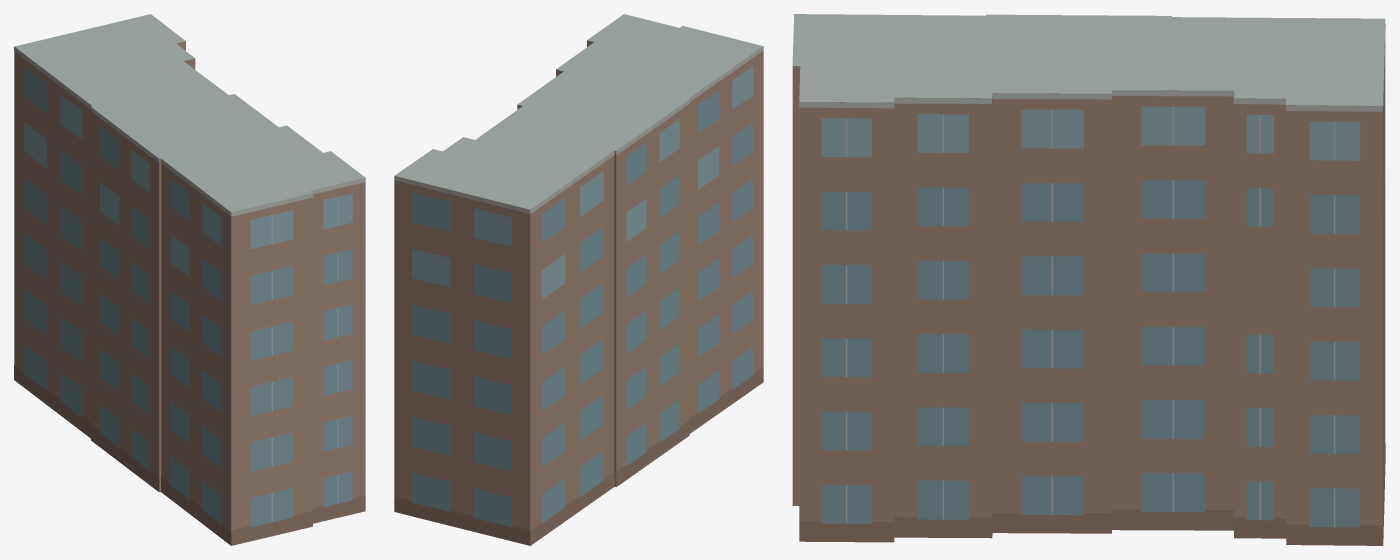
File: survey-upis-32968463.glb
3 views of the same model, side by side, from view 1: azimuth 30°, elevation 25°; view 2: azimuth 150°, elevation 25°; view 3: azimuth 270°, elevation 25° (orthographic). The views are drawn at different scales.
Visible parts, largest first — view 1: survey-upis-32968463.tmp; view 2: survey-upis-32968463.tmp; view 3: survey-upis-32968463.tmp.
Boxes of the visible parts, left/top/right/bottom form: survey-upis-32968463.tmp: left=14, top=14, right=365, bottom=545; survey-upis-32968463.tmp: left=394, top=14, right=763, bottom=545; survey-upis-32968463.tmp: left=792, top=14, right=1385, bottom=545.
Bounding box in the file's own units: 8.31 × 18.5 × 22.61.
